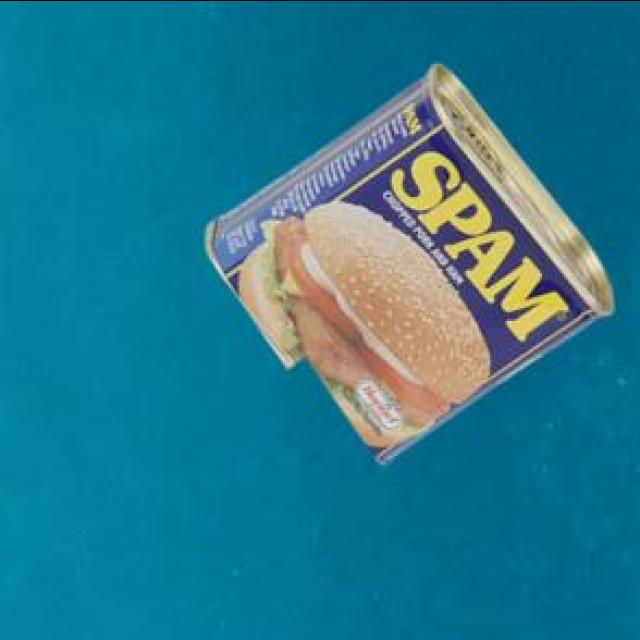logam: (210, 60, 617, 460)
